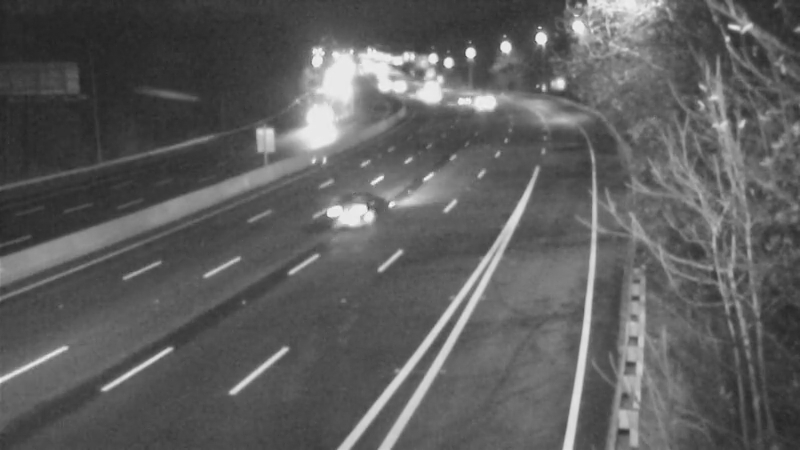vehicle: (308, 174, 388, 254), (403, 66, 453, 116), (458, 81, 508, 131), (290, 101, 340, 151)
